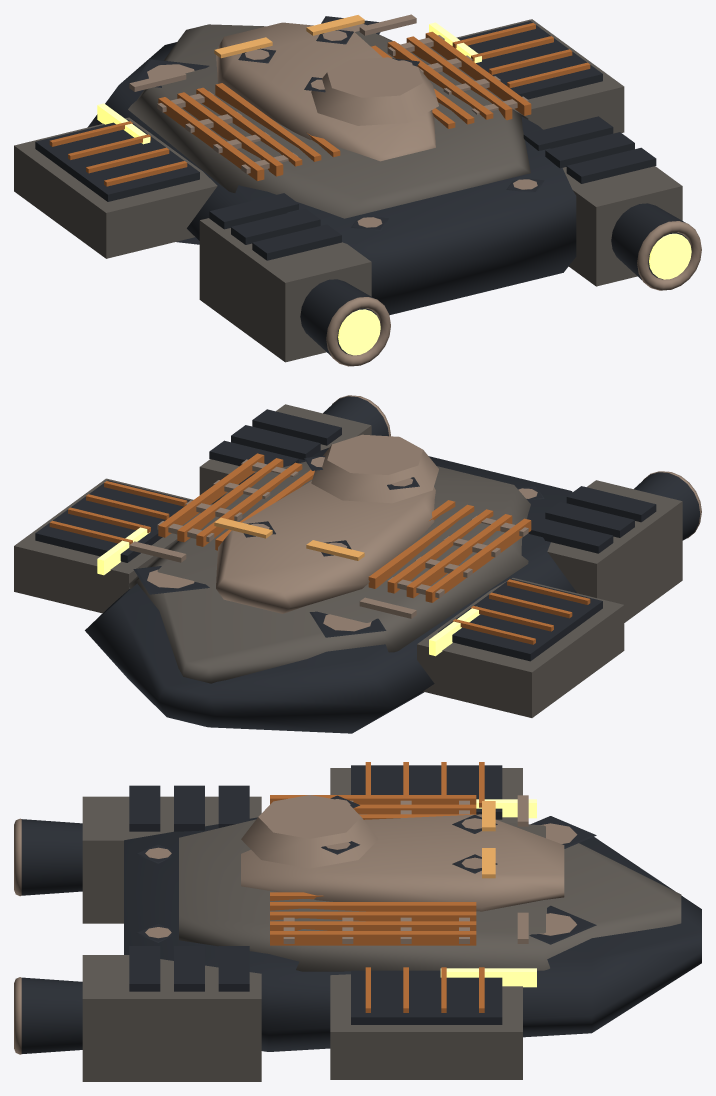
File: compact_high_gravity--science_vessel.glb
The picture shows the model from 3 angles, top to bottom: view 1: azimuth 30°, elevation 25°; view 2: azimuth 150°, elevation 25°; view 3: azimuth 270°, elevation 25°; orthographic projection. The views are drawn at different scales.
Parts seen in each view (by area): view 1: load_bearing_wedge_1, stepped_main_plate_2, reinforced_command_deck_3, armored_drive_block_4, broad_laboratory_wing_47, armored_drive_block_25, analysis_crown_59, lab_roof_48, lab_roof_54, broad_laboratory_wing_53, engine_shroud_5, engine_shroud_26 (+30 smaller); view 2: load_bearing_wedge_1, stepped_main_plate_2, reinforced_command_deck_3, broad_laboratory_wing_47, armored_drive_block_4, broad_laboratory_wing_53, analysis_crown_59, lab_roof_48, lab_roof_54, armored_drive_block_25, drive_grille_20, drive_grille_19 (+30 smaller); view 3: stepped_main_plate_2, load_bearing_wedge_1, armored_drive_block_25, reinforced_command_deck_3, broad_laboratory_wing_53, lab_roof_54, armored_drive_block_4, analysis_crown_59, engine_shroud_5, engine_shroud_26, lab_roof_48, deck_load_rib_37 (+18 smaller).
Boxes of the visible parts, x1,y1,x2,y2 form: load_bearing_wedge_1: [87, 42, 576, 315]; stepped_main_plate_2: [128, 24, 530, 218]; reinforced_command_deck_3: [216, 22, 435, 161]; armored_drive_block_4: [199, 218, 371, 362]; broad_laboratory_wing_47: [14, 117, 217, 258]; armored_drive_block_25: [562, 166, 682, 286]; analysis_crown_59: [311, 57, 438, 125]; lab_roof_48: [35, 119, 199, 201]; lab_roof_54: [458, 21, 602, 99]; broad_laboratory_wing_53: [429, 19, 624, 133]; engine_shroud_5: [300, 279, 376, 356]; engine_shroud_26: [611, 203, 689, 279]; load_bearing_wedge_1: [85, 448, 576, 733]; stepped_main_plate_2: [128, 461, 530, 683]; reinforced_command_deck_3: [216, 481, 435, 613]; broad_laboratory_wing_47: [417, 578, 624, 717]; armored_drive_block_4: [547, 480, 682, 622]; broad_laboratory_wing_53: [14, 478, 212, 613]; analysis_crown_59: [311, 434, 438, 503]; lab_roof_48: [438, 578, 602, 661]; lab_roof_54: [35, 480, 189, 562]; armored_drive_block_25: [199, 404, 371, 504]; drive_grille_20: [566, 486, 656, 522]; drive_grille_19: [545, 501, 634, 537]; stepped_main_plate_2: [179, 813, 681, 971]; load_bearing_wedge_1: [124, 817, 701, 1051]; armored_drive_block_25: [82, 955, 261, 1081]; reinforced_command_deck_3: [241, 814, 564, 911]; broad_laboratory_wing_53: [330, 974, 522, 1079]; lab_roof_54: [351, 970, 502, 1024]; armored_drive_block_4: [82, 796, 261, 923]; analysis_crown_59: [241, 795, 378, 868]; engine_shroud_5: [21, 819, 82, 895]; engine_shroud_26: [21, 977, 82, 1053]; lab_roof_48: [351, 765, 502, 819]; deck_load_rib_37: [270, 931, 476, 945].
Bounding box in the file's own units: 168 × 52 × 185.
